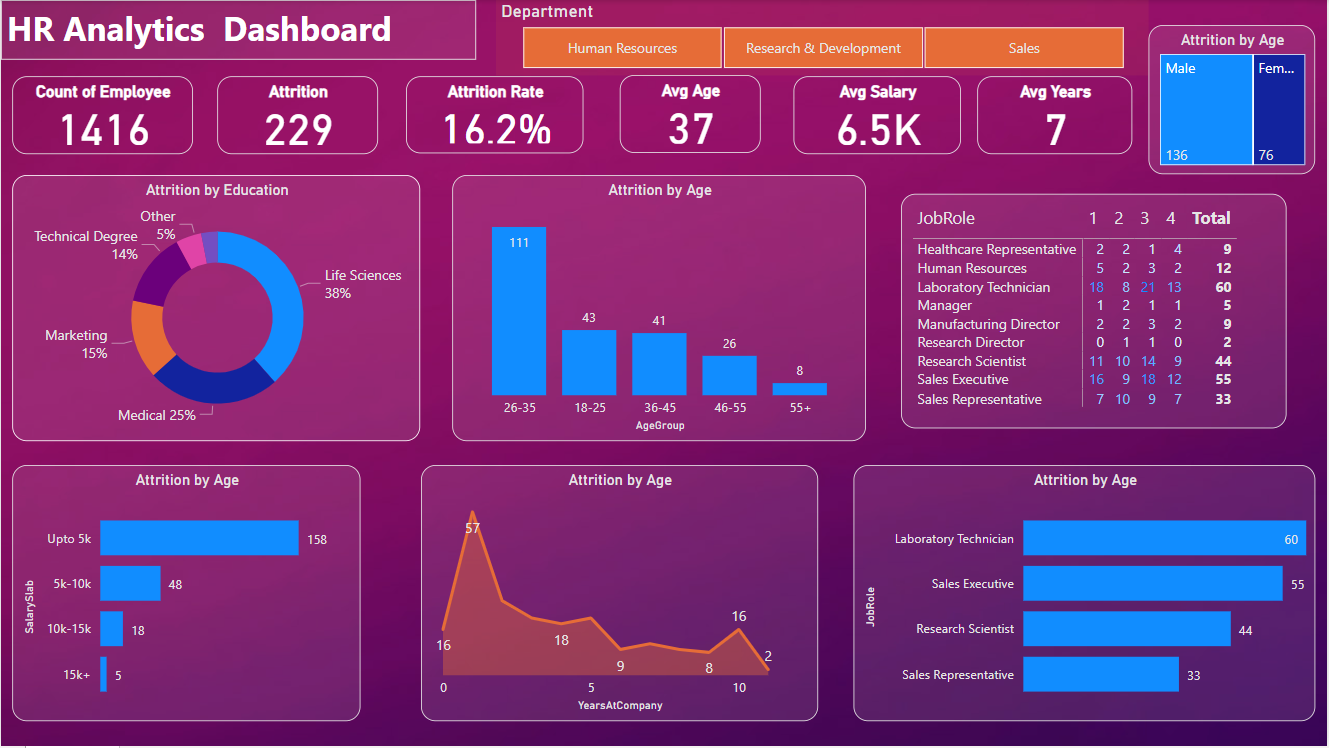

This screenshot's page, from the dashboard's own definition file:
{"tool":"powerbi","page":{"name":"Page 1","canvas":[1280,720],"ordinal":0},"visuals":[{"type":"card","title":"Count of Employee","fields":{"Values":["Sum(HR_Analytics.EmployeeCount)"]},"box":[11,74.1,174.3,75.5],"z":0},{"type":"card","title":"Attrition","fields":{"Values":["Sum(HR_Analytics.AttritionCount)"]},"box":[208.6,74.1,155.1,75.5],"z":1000},{"type":"card","title":"Attrition Rate","fields":{"Values":["HR_Analytics.AttritionRate"]},"box":[391.1,74.1,171.5,74.1],"z":2000},{"type":"card","title":"Avg Age","fields":{"Values":["Avg(HR_Analytics.Age)"]},"box":[596.9,72.7,135.8,75.5],"z":3000},{"type":"card","title":"Avg Salary","fields":{"Values":["Avg(HR_Analytics.MonthlyIncome)"]},"box":[764.3,74.1,161.9,75.5],"z":4000},{"type":"card","title":"Avg Years","fields":{"Values":["Avg(HR_Analytics.YearsAtCompany)"]},"box":[941.3,74.1,149.6,75.5],"z":5000},{"type":"donutChart","title":"Attrition by Education","fields":{"Category":["HR_Analytics.EducationField"],"Y":["Sum(HR_Analytics.AttritionCount)"]},"box":[11,168.8,393.8,256.6],"z":6000},{"type":"columnChart","title":"Attrition by Age","fields":{"Category":["HR_Analytics.AgeGroup"],"Y":["Sum(HR_Analytics.AttritionCount)"]},"box":[435,168.8,399.3,256.6],"z":7000},{"type":"pivotTable","fields":{"Rows":["HR_Analytics.JobRole"],"Columns":["HR_Analytics.JobSatisfaction"],"Values":["Sum(HR_Analytics.AttritionCount)"]},"box":[868.6,186.6,371.9,226.4],"z":8000},{"type":"barChart","title":"Attrition by Age","fields":{"Category":["HR_Analytics.SalarySlab"],"Y":["Sum(HR_Analytics.AttritionCount)"]},"box":[11,448.7,336.2,247],"z":9000},{"type":"barChart","title":"Attrition by Age","fields":{"Category":["HR_Analytics.JobRole"],"Y":["Sum(HR_Analytics.AttritionCount)"]},"box":[822,448.7,446,247],"z":10000},{"type":"areaChart","title":"Attrition by Age","fields":{"Category":["HR_Analytics.YearsAtCompany"],"Y":["Sum(HR_Analytics.AttritionCount)"]},"box":[404.8,448.7,382.8,247],"z":11000},{"type":"treemap","title":"Attrition by Age","fields":{"Group":["HR_Analytics.Gender"],"Values":["Sum(HR_Analytics.AttritionCount)"]},"box":[1107.4,24.7,160.5,144.1],"z":12000},{"type":"slicer","title":"Department","fields":{"Values":["HR_Analytics.Department"]},"box":[477.5,0,629.8,72.7],"z":13000},{"type":"textbox","box":[0,0,458.3,57.6],"z":14000}]}

Visuals, with their boxes in screenshot pixels (x1, y1, x2, y2), scaled from the page's 1280x720 canvas onto the 1329x748 screenshot:
"Count of Employee" card: <bbox>11, 77, 192, 155</bbox>
"Attrition" card: <bbox>217, 77, 378, 155</bbox>
"Attrition Rate" card: <bbox>406, 77, 584, 154</bbox>
"Avg Age" card: <bbox>620, 76, 761, 154</bbox>
"Avg Salary" card: <bbox>794, 77, 962, 155</bbox>
"Avg Years" card: <bbox>977, 77, 1133, 155</bbox>
"Attrition by Education" donutChart: <bbox>11, 175, 420, 442</bbox>
"Attrition by Age" columnChart: <bbox>452, 175, 866, 442</bbox>
pivotTable - HR_Analytics.JobRole x HR_Analytics.JobSatisfaction: <bbox>902, 194, 1288, 429</bbox>
"Attrition by Age" barChart: <bbox>11, 466, 360, 723</bbox>
"Attrition by Age" barChart: <bbox>853, 466, 1317, 723</bbox>
"Attrition by Age" areaChart: <bbox>420, 466, 818, 723</bbox>
"Attrition by Age" treemap: <bbox>1150, 26, 1316, 175</bbox>
"Department" slicer: <bbox>496, 0, 1150, 76</bbox>
textbox: <bbox>0, 0, 476, 60</bbox>
